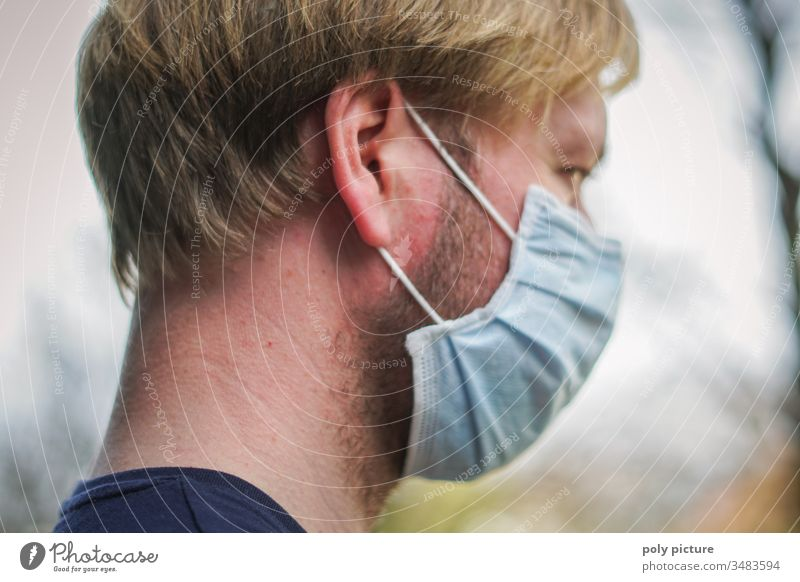with_mask: (259, 28, 651, 491)
